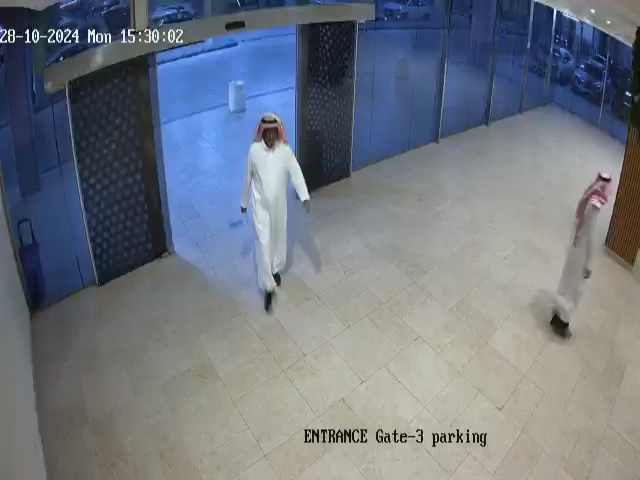male: (240, 112, 311, 311), (549, 154, 615, 360)
